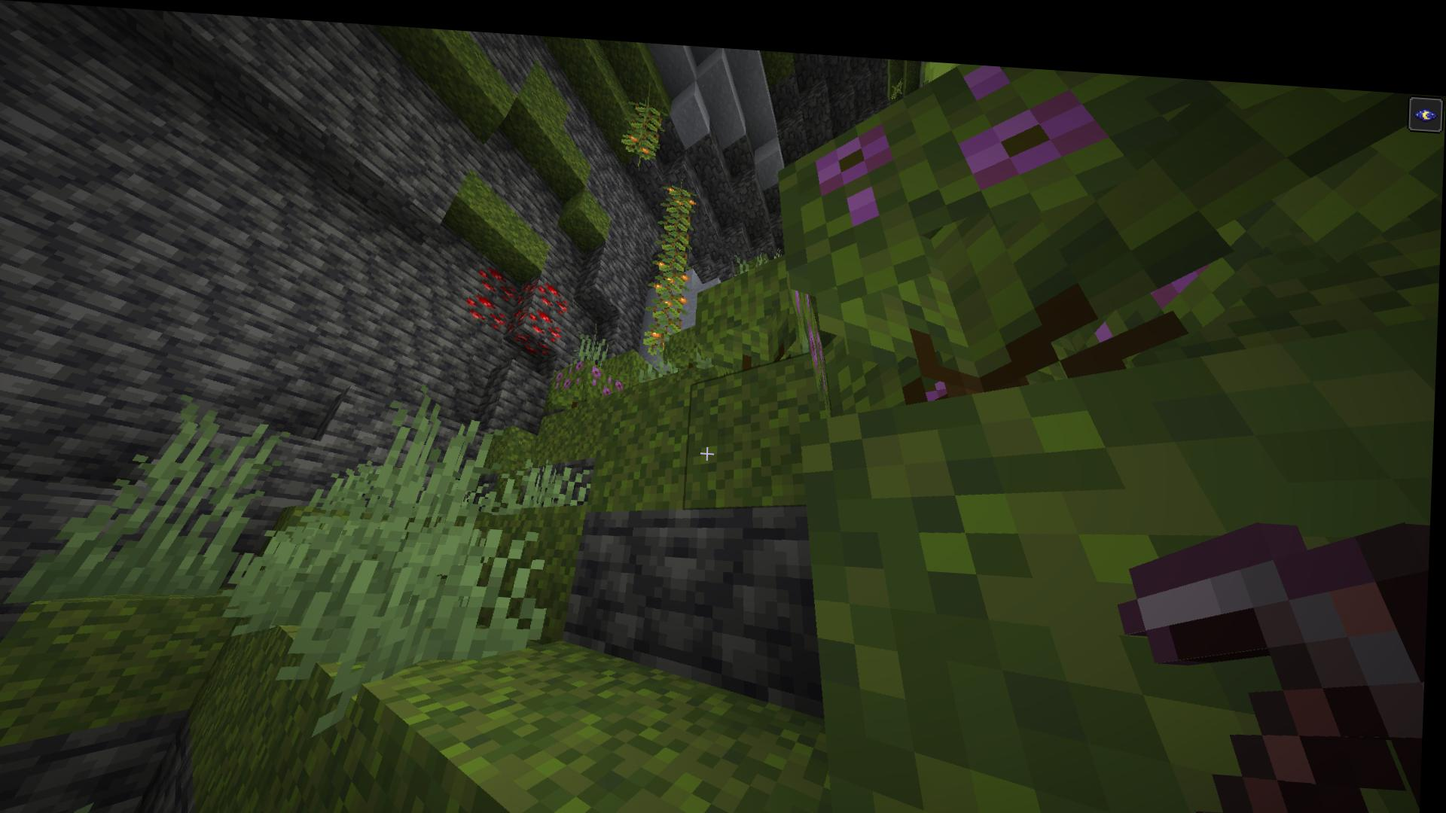redstone ore: (467, 284, 516, 331), (536, 265, 574, 310), (477, 257, 519, 296), (531, 298, 566, 335)
